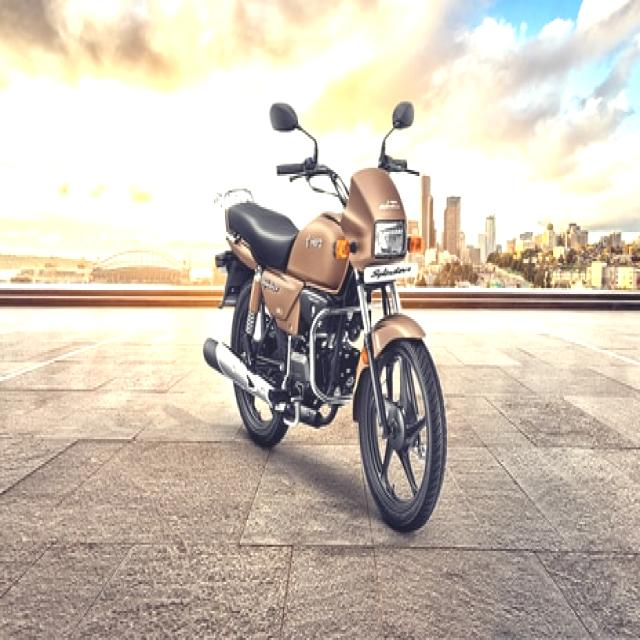MOTORCYCLE: (210, 154, 450, 537)
